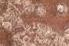plaque psoriasis: (3, 22, 69, 46), (0, 0, 69, 22), (0, 14, 7, 46), (55, 3, 67, 15)
